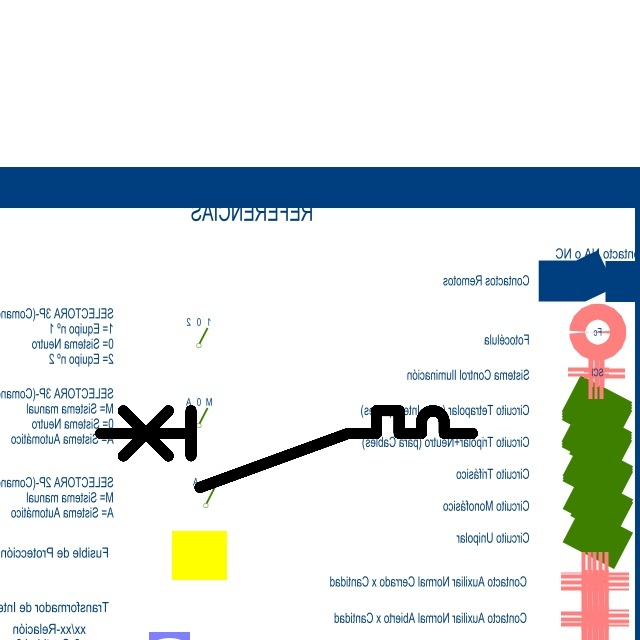interruptor_termomagnetico: (91, 401, 482, 496)
